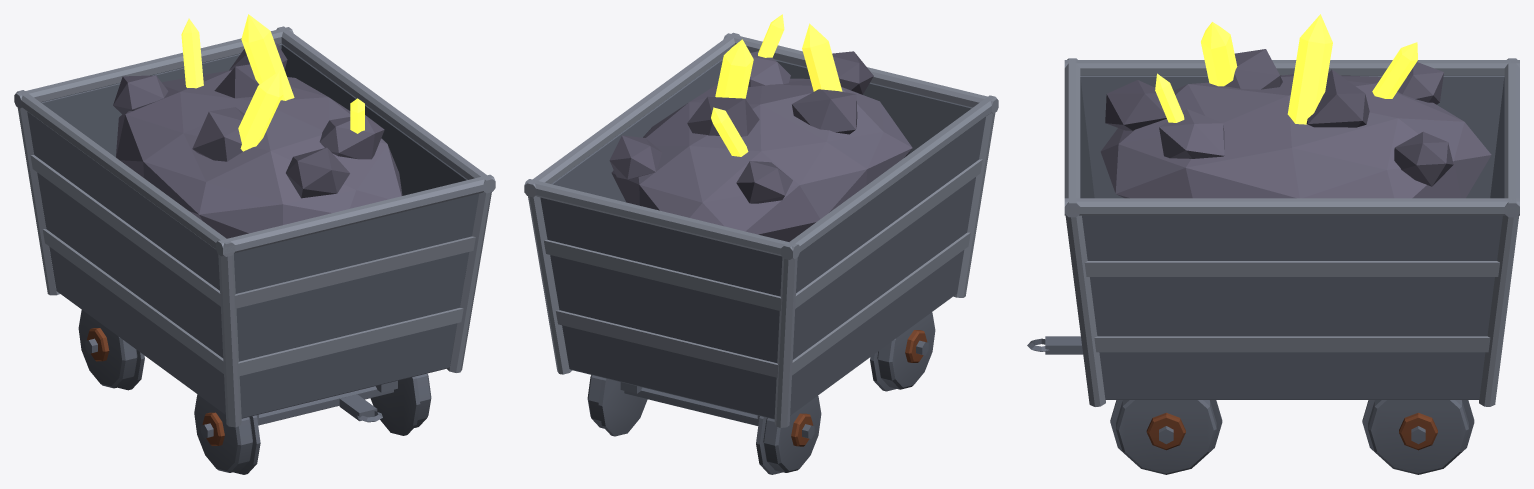
The model's file is minecart.fbx.
3 views of the same model, side by side, from view 1: azimuth 30°, elevation 25°; view 2: azimuth 150°, elevation 25°; view 3: azimuth 270°, elevation 25° (orthographic). The views are drawn at different scales.
Parts seen in each view (by area): view 1: minecart_Body, minecart_Frame, minecart_Ore, minecart_Running, minecart_Crystals_Glow, minecart_Hubs; view 2: minecart_Body, minecart_Ore, minecart_Frame, minecart_Running, minecart_Crystals_Glow, minecart_Hubs; view 3: minecart_Body, minecart_Ore, minecart_Frame, minecart_Running, minecart_Crystals_Glow, minecart_Hubs.
Boxes of the visible parts, x1,y1,x2,y2 form: minecart_Body: (27, 43, 478, 418); minecart_Frame: (14, 26, 495, 427); minecart_Ore: (113, 43, 402, 238); minecart_Running: (78, 310, 431, 474); minecart_Crystals_Glow: (181, 14, 364, 151); minecart_Hubs: (87, 328, 224, 445); minecart_Body: (540, 58, 985, 419); minecart_Ore: (609, 51, 912, 241); minecart_Frame: (524, 32, 998, 427); minecart_Running: (587, 312, 935, 474); minecart_Crystals_Glow: (711, 14, 842, 156); minecart_Hubs: (791, 330, 927, 446); minecart_Body: (1080, 75, 1504, 399); minecart_Ore: (1100, 49, 1491, 198); minecart_Frame: (1064, 58, 1519, 406); minecart_Running: (1027, 336, 1474, 474); minecart_Crystals_Glow: (1155, 14, 1417, 124); minecart_Hubs: (1146, 412, 1437, 450).
Bounding box in the file's own units: 4.9 × 6.6 × 7.04.
